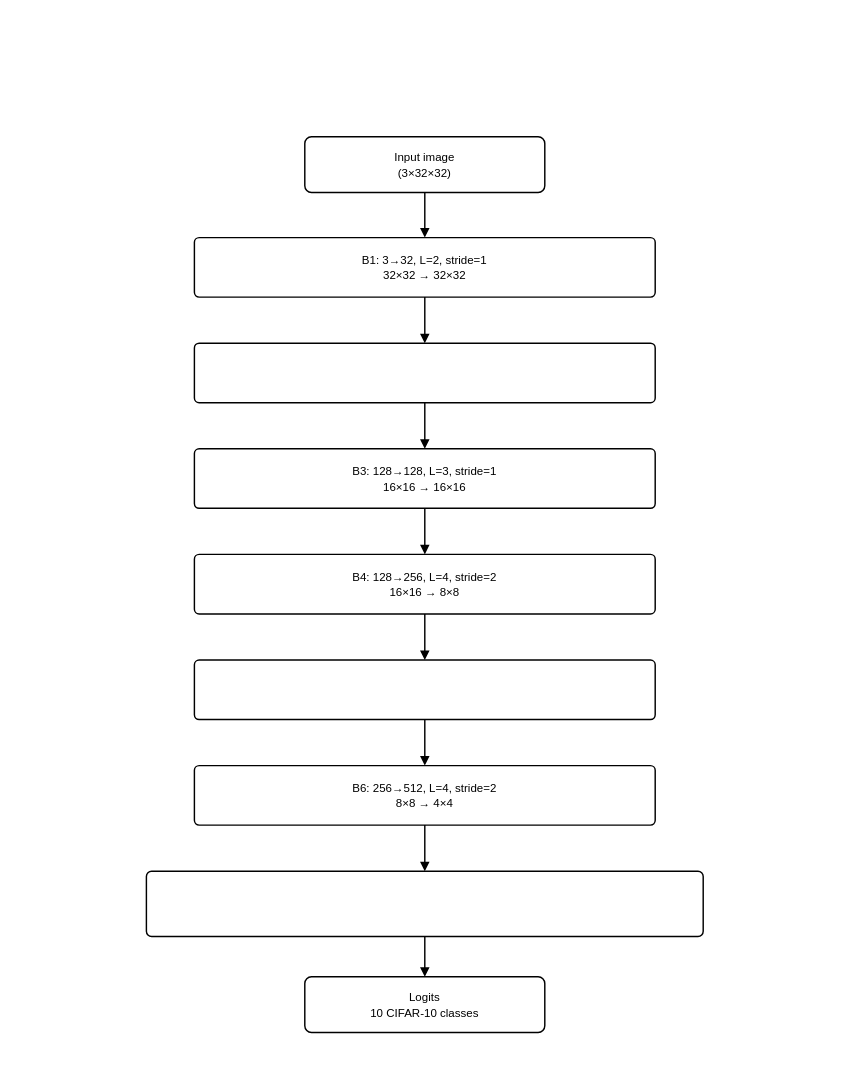
Image size: 849x1089. Some labels were removed from this diagram. Here are the shapes that lost their labels. From the top down, the centre of each, then its label:
At point 424,372: "B2: 32→128, L=2, stride=2 32×32 → 16×16".
At point 424,689: "B5: 256→256, L=4, stride=1 8×8 → 8×8".
At point 424,903: "Output block GAP → FC(512→256) → ReLU → Dropout(0.4) → FC(256→10)".
